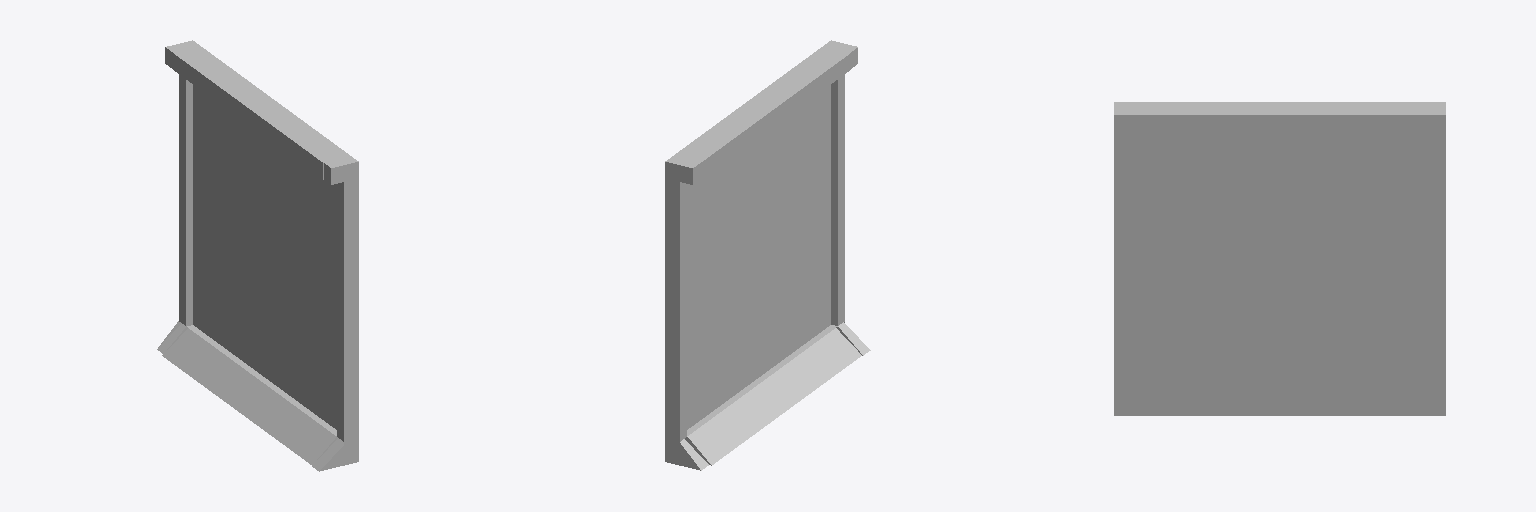
Rendered from window.obj.
3 renders of one model, left to right at view 1: azimuth 30°, elevation 25°; view 2: azimuth 150°, elevation 25°; view 3: azimuth 270°, elevation 25°, orthographic.
Visible parts, largest first — view 1: Cube; view 2: Cube; view 3: Cube.
Boxes of the visible parts, x1,y1,x2,y2 form: Cube: [157, 40, 358, 471]; Cube: [665, 40, 870, 470]; Cube: [1114, 102, 1445, 415].
Bounding box in the file's own units: 0.0783 × 0.5666 × 0.5666.